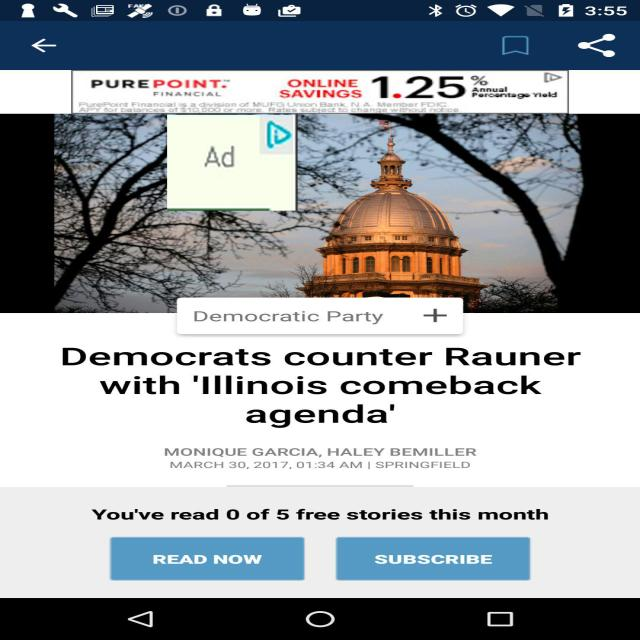sneaking: (167, 114, 298, 210)
